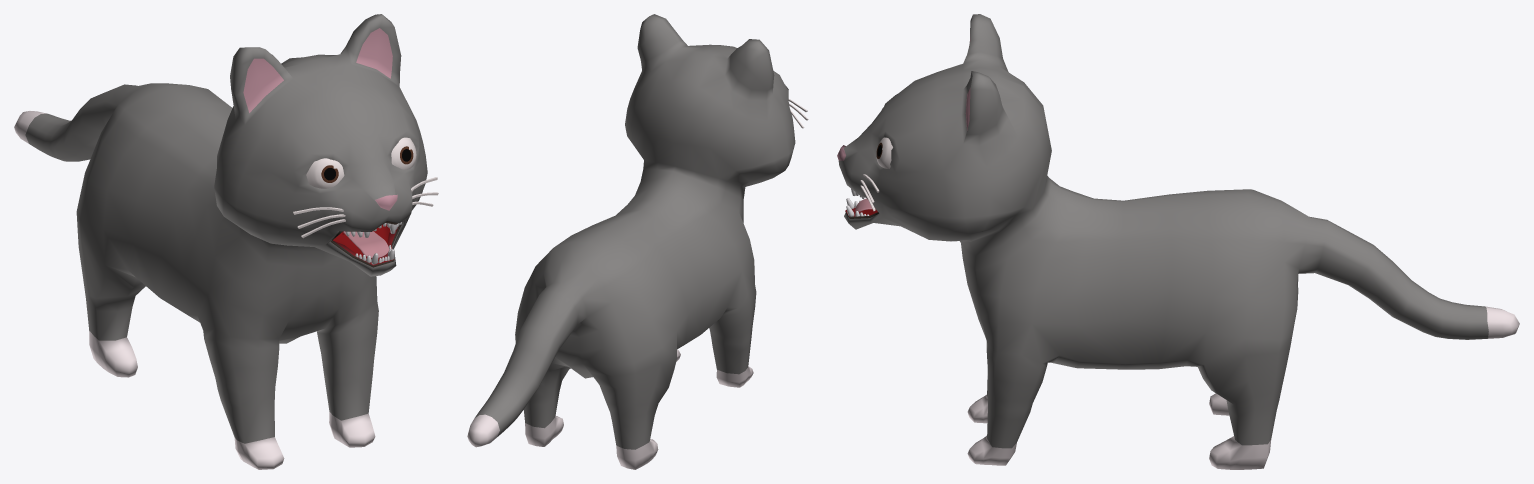
File: 3D_Model_Cat.fbx
The picture shows the model from 3 angles, left to right: view 1: azimuth 30°, elevation 25°; view 2: azimuth 150°, elevation 25°; view 3: azimuth 270°, elevation 25°; orthographic projection. The views are drawn at different scales.
Visible parts, largest first — view 1: polySurface226, polySurface229, polySurface225, polySurface230; view 2: polySurface226; view 3: polySurface226.
Part boxes in pixels (x1,y1,x2,y2): polySurface226: (14,14,427,469); polySurface229: (306,158,344,188); polySurface225: (343,231,389,258); polySurface230: (391,137,416,169); polySurface226: (467,14,795,469); polySurface226: (837,14,1519,469).
Size of the model in its own units: 2.66 by 5.48 by 8.6.
